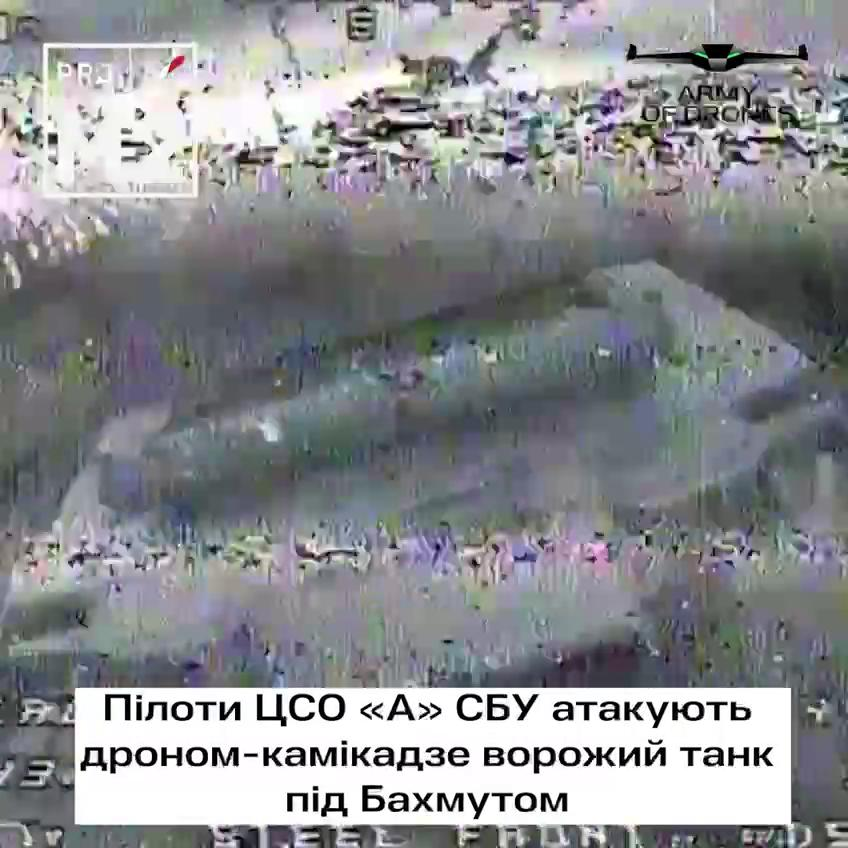tank: (35, 239, 841, 760)
